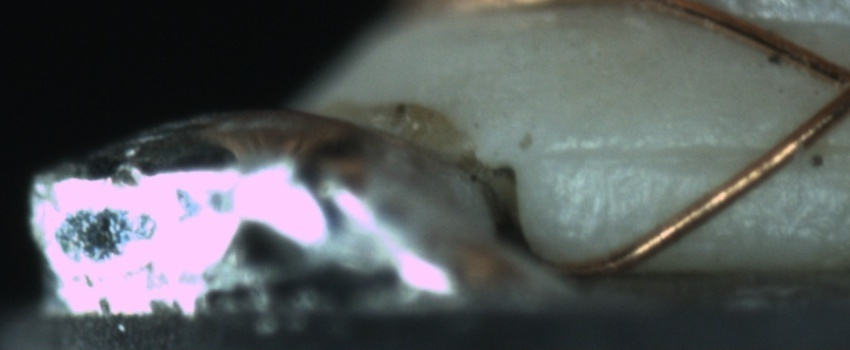CL: (808, 49, 850, 123)
DL: (546, 114, 849, 190)
